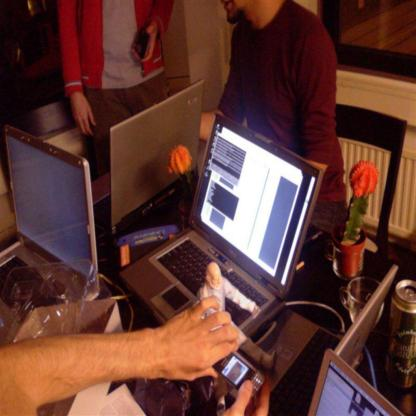board: (141, 104, 325, 329), (226, 266, 398, 415), (0, 124, 98, 347), (93, 79, 204, 236), (309, 350, 404, 415), (389, 280, 416, 388)
